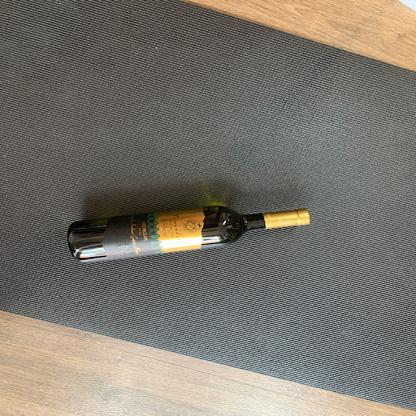trash: (63, 205, 314, 264)
